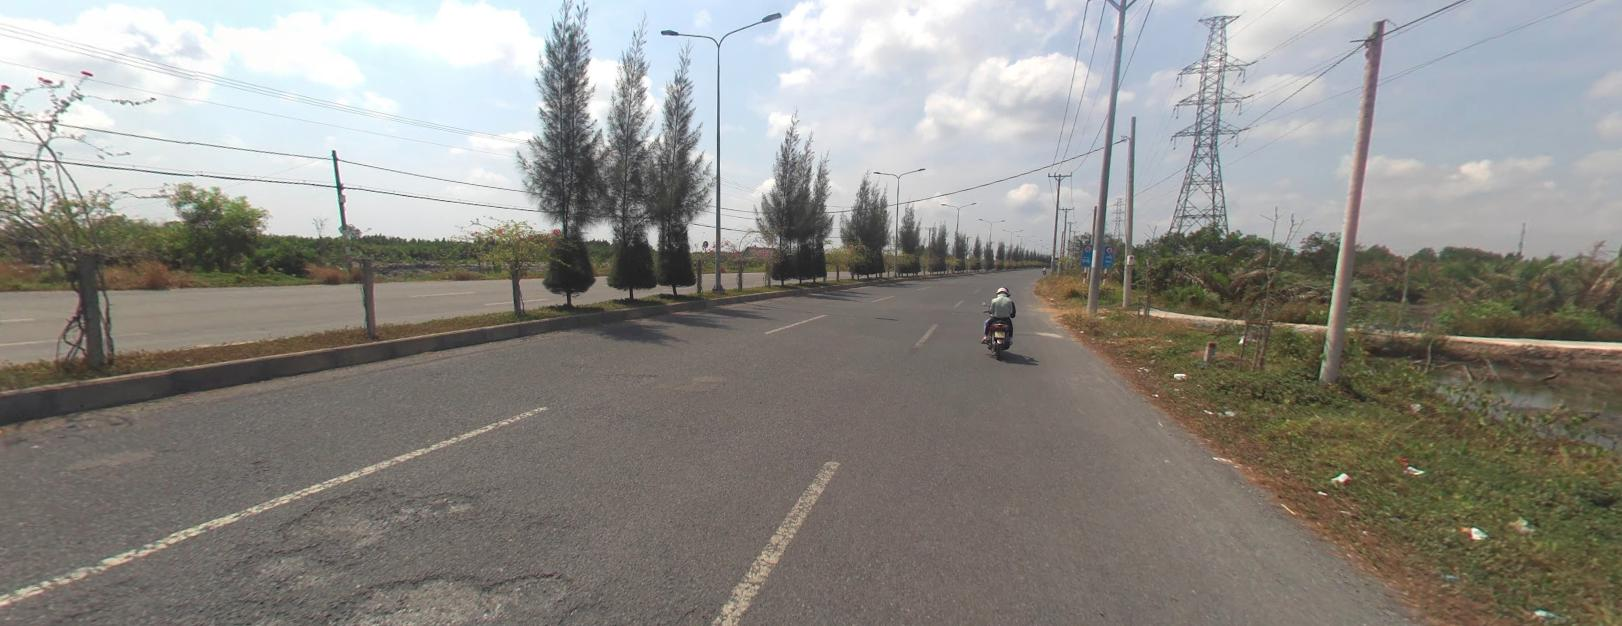Gioi han toc do: (1084, 244, 1091, 251), (1105, 245, 1112, 251)
